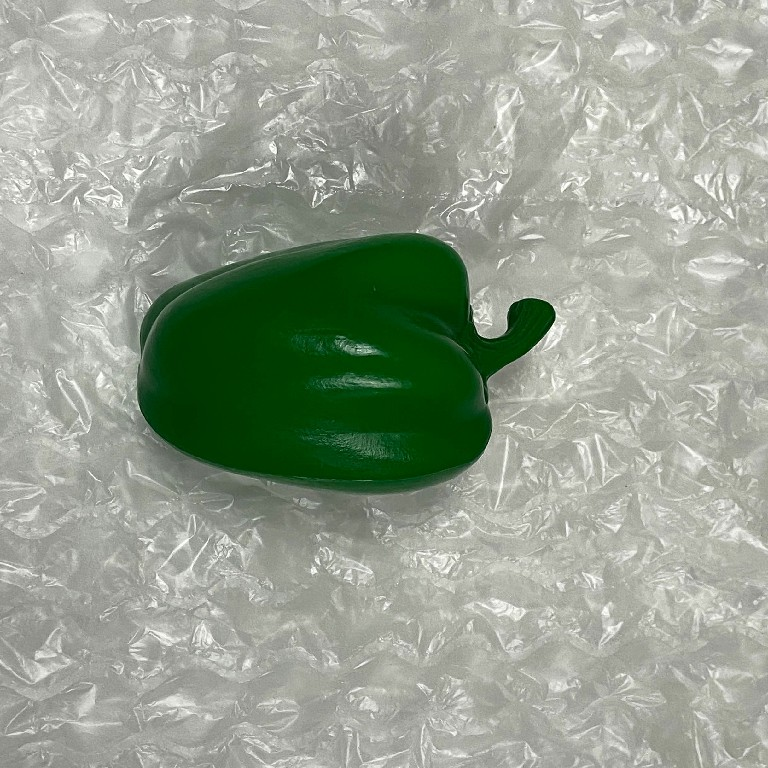fruit_pepper: (122, 227, 559, 500)
